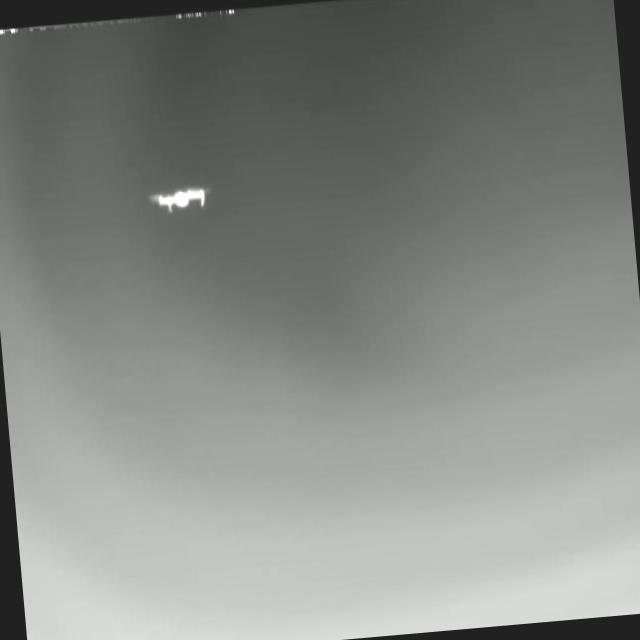DRONE: (145, 183, 214, 215)
